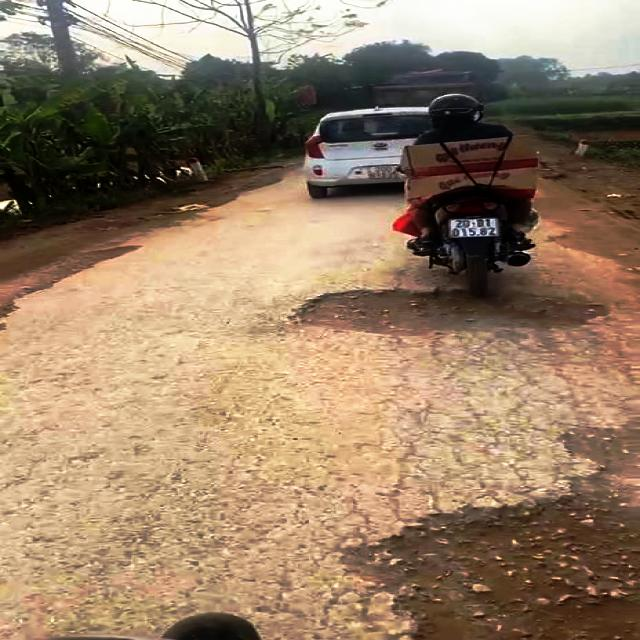pothole: (302, 420, 640, 640), (294, 286, 618, 340), (0, 242, 146, 316)
